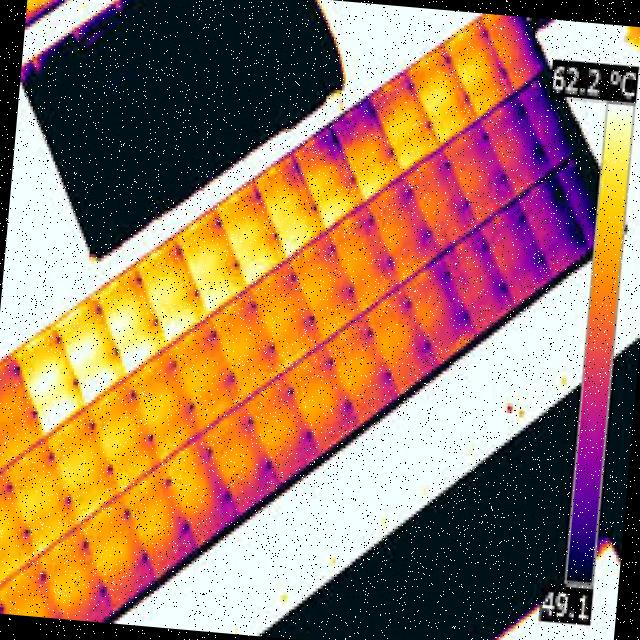Hotspot: (7, 322, 92, 441), (127, 236, 214, 351), (47, 292, 132, 406), (87, 265, 171, 379), (169, 208, 253, 320), (238, 248, 265, 290), (316, 202, 348, 235), (278, 232, 307, 264)
